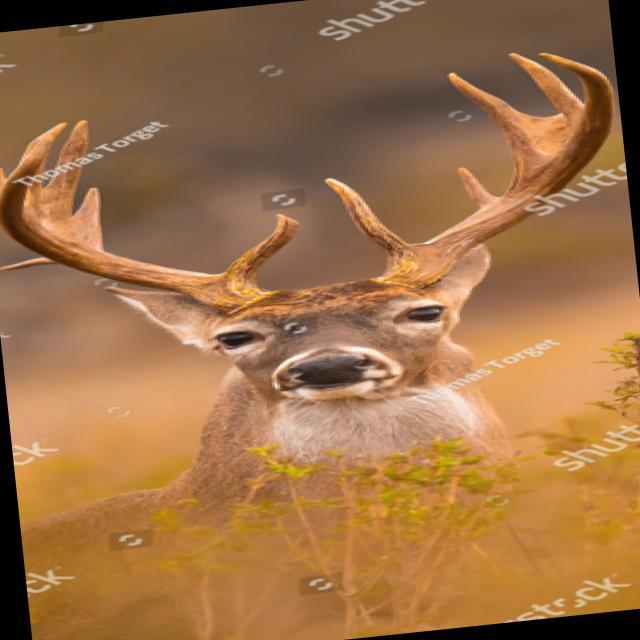L-F: (371, 48, 617, 288)
L-G1: (318, 175, 425, 258)
L-G2: (454, 165, 500, 211)
L-G3: (442, 68, 546, 181)
L-G4: (506, 50, 584, 144)
R-F: (0, 120, 277, 316)
R-G1: (218, 212, 301, 280)
R-G2: (73, 184, 105, 252)
R-G3: (39, 114, 93, 243)
